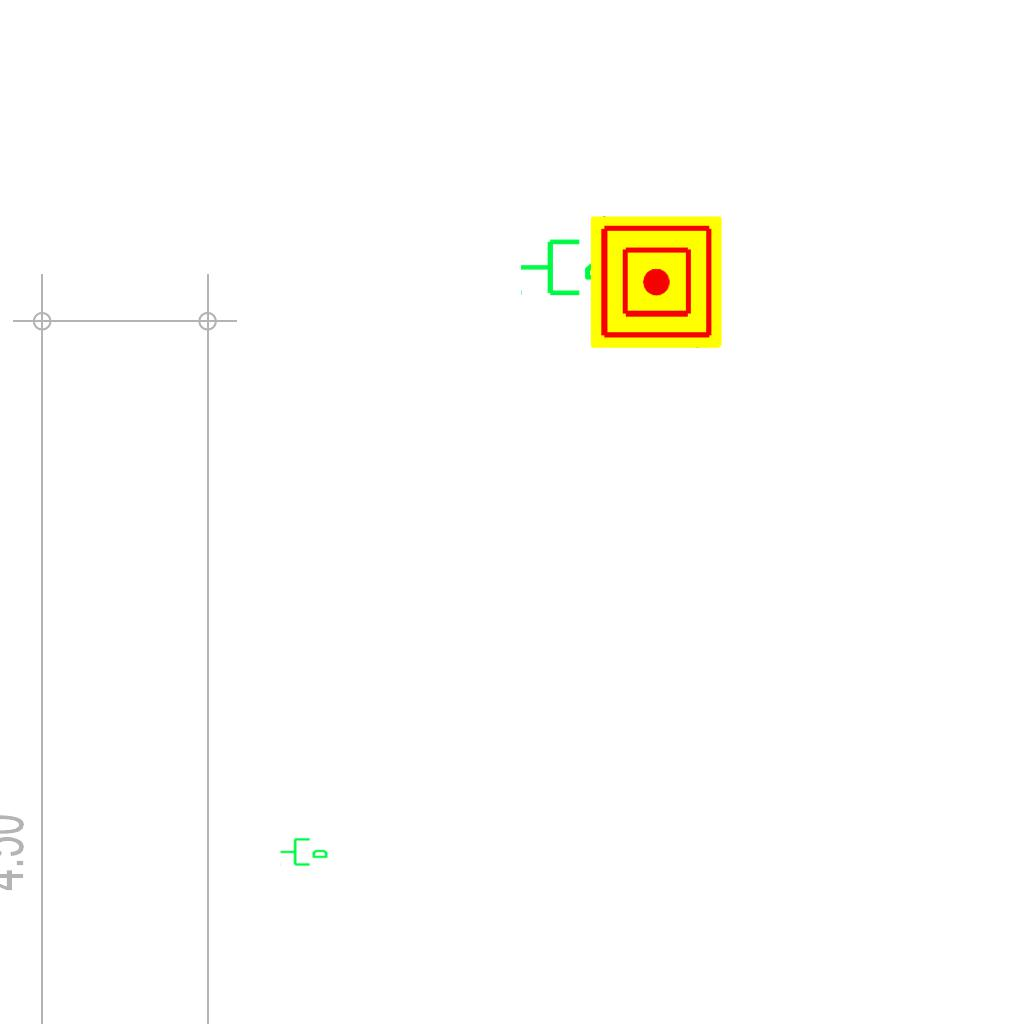Datenanschluss_einfach: (518, 231, 618, 300), (279, 834, 329, 868)
NAM-Nichtautomatischer_Melder: (590, 216, 722, 348)
